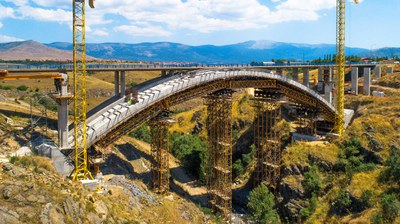bridge: (1, 58, 379, 165)
